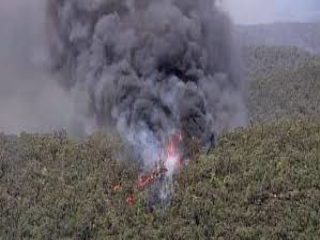fire: (159, 133, 189, 175)
smoke: (46, 5, 265, 142)
